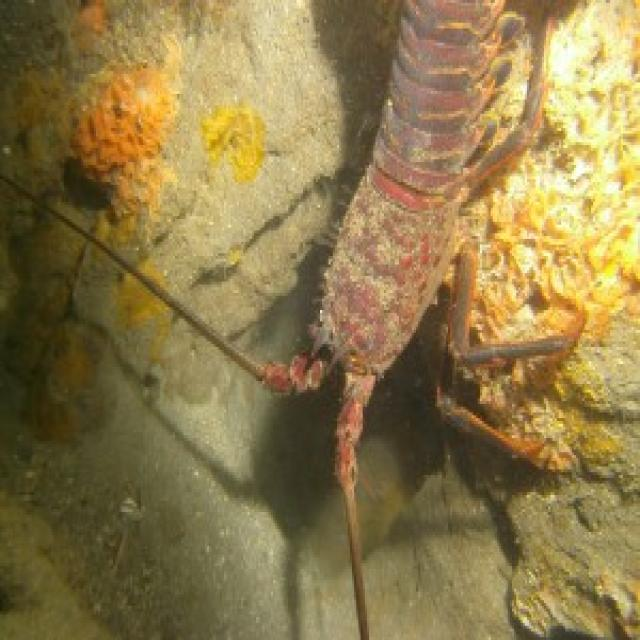lobsters: (71, 2, 634, 640)
